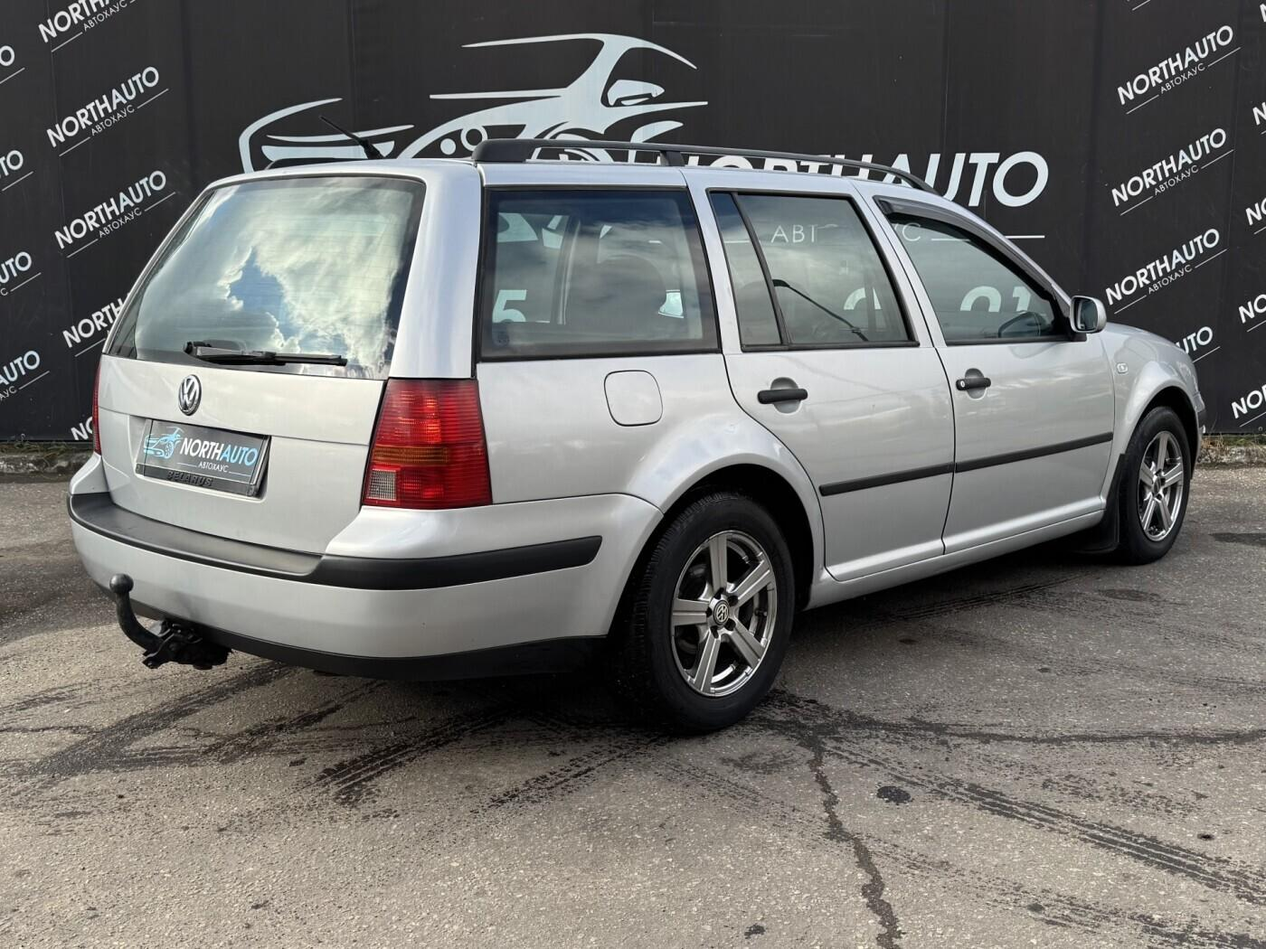Golf_1997-2006: (56, 158, 1206, 717)
